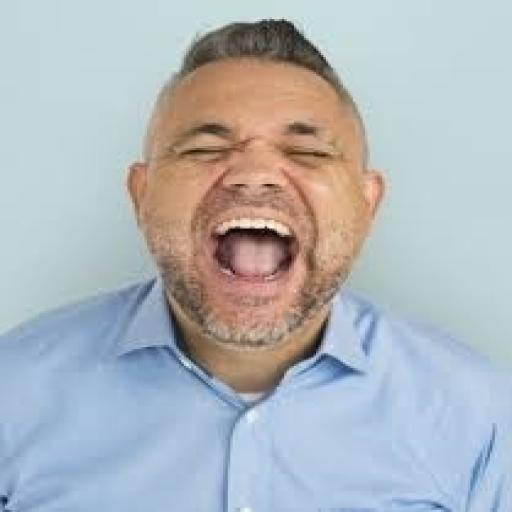laughing: (105, 13, 407, 353)
